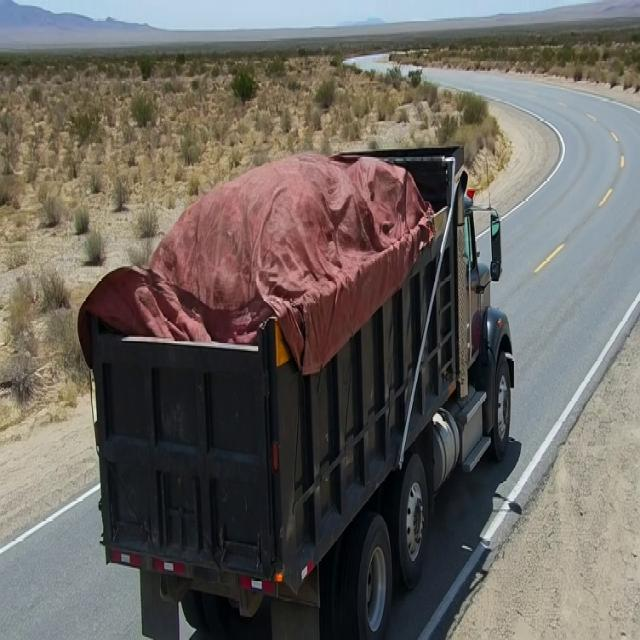trailer: (83, 126, 460, 346)
truck: (78, 115, 540, 616)
